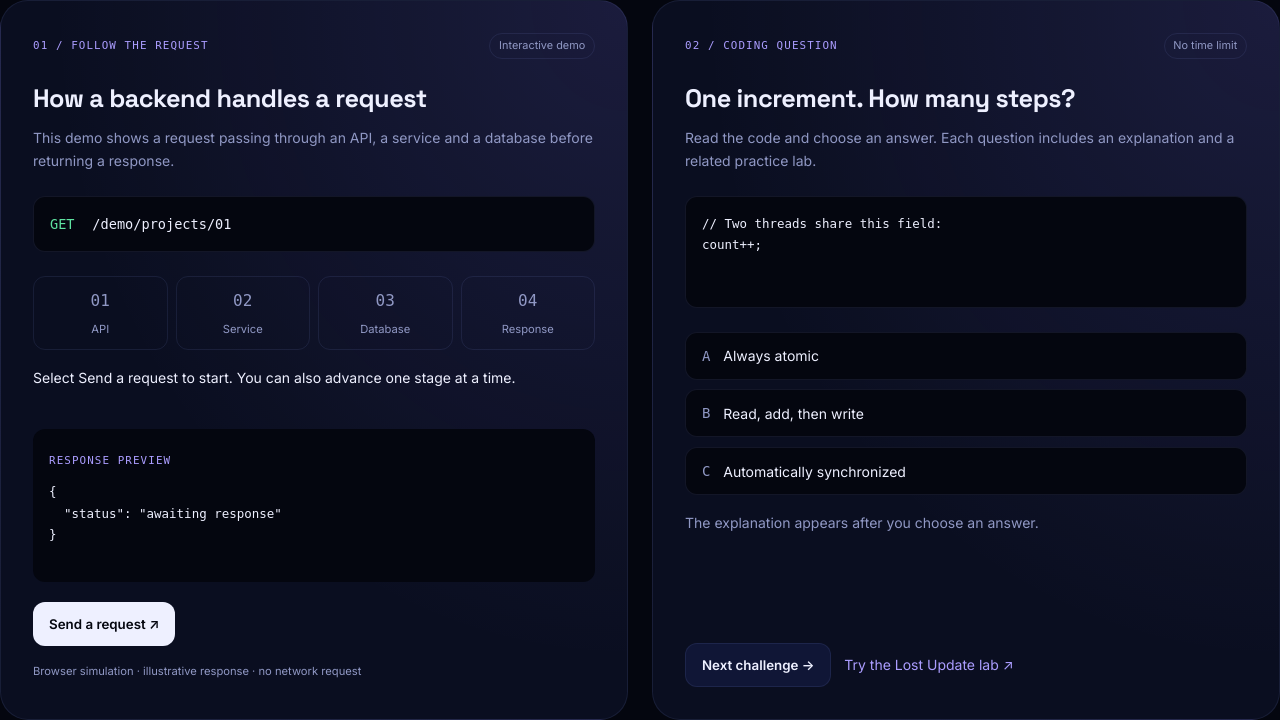
Test: request travels through all stages and can be replayed
What coordinates should you click on to do the following:
click the button "Send a request ↗"
I would click on:
 (104, 624)
Its box is [33,602,175,646].
Wait 2850 ms
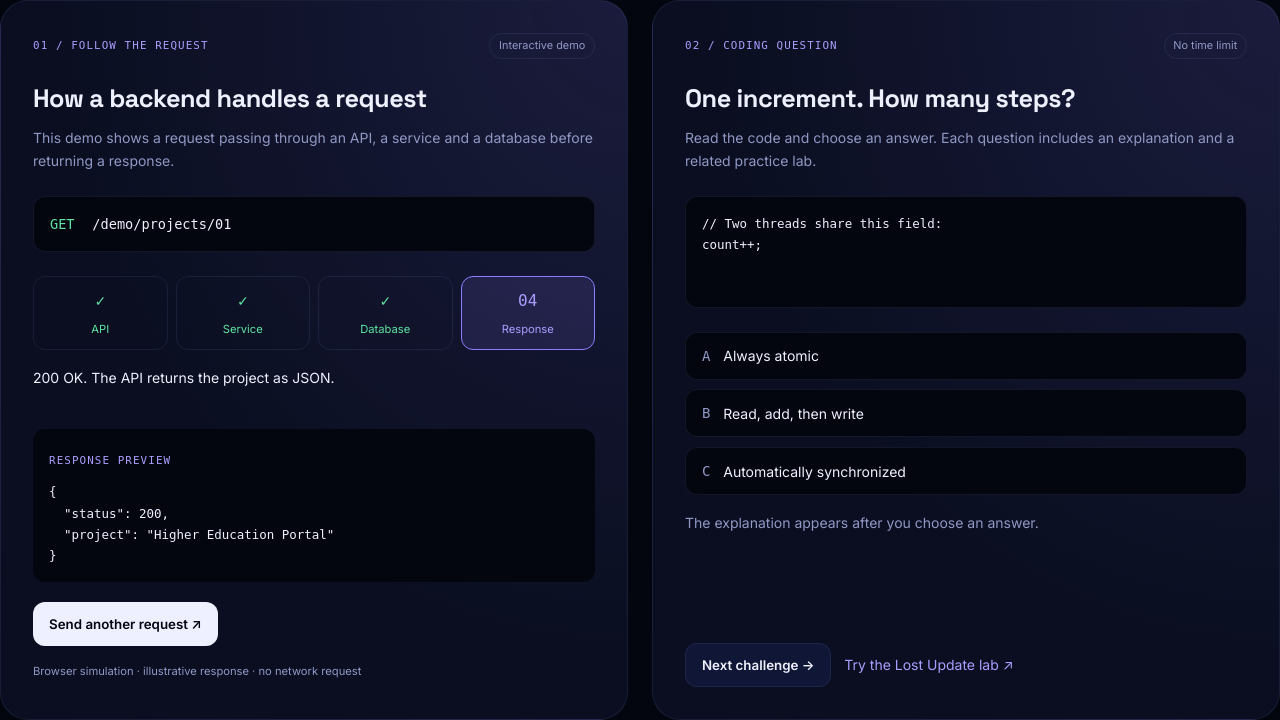
Expected: the text "200 OK. The API returns the project as JSON." is shown, [33,369,335,386]
What coordinates should you click on to do the following:
click the button "Send another request ↗"
I would click on:
 (125, 624)
Its box is [33,602,218,646].
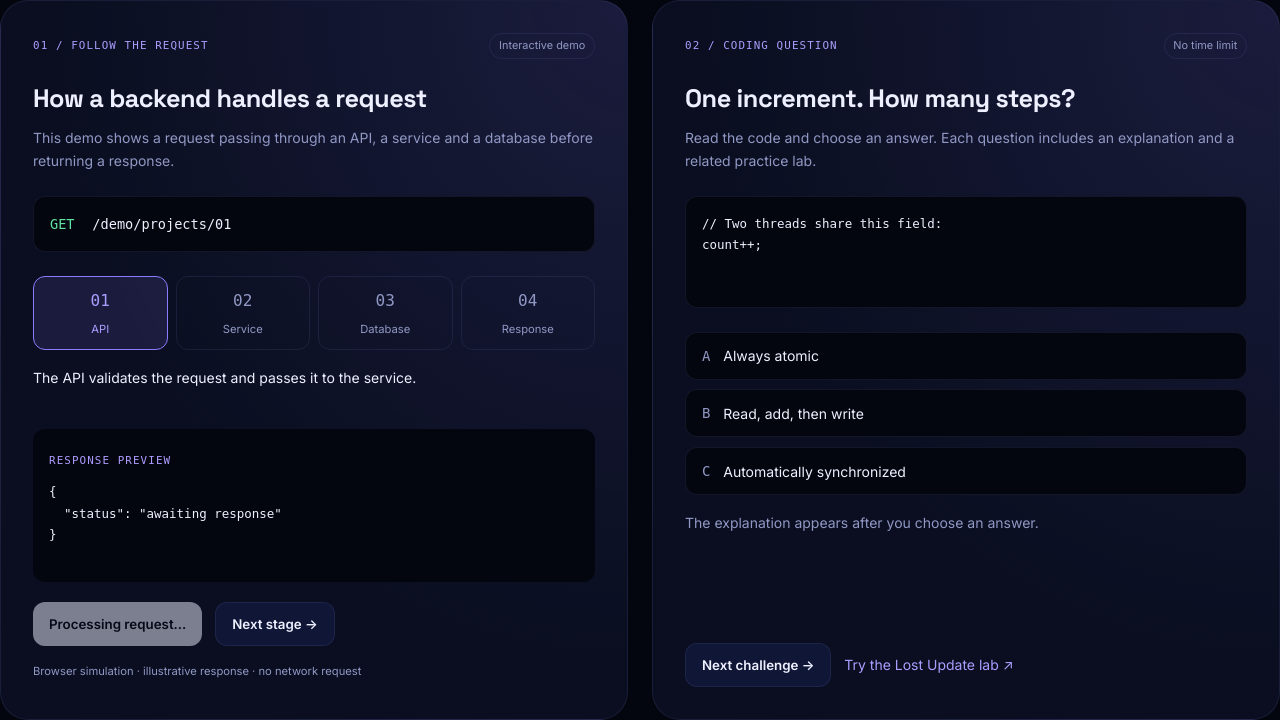
Expected: the text "The API validates the request and passes it to the service." is shown, [33,369,416,386]
